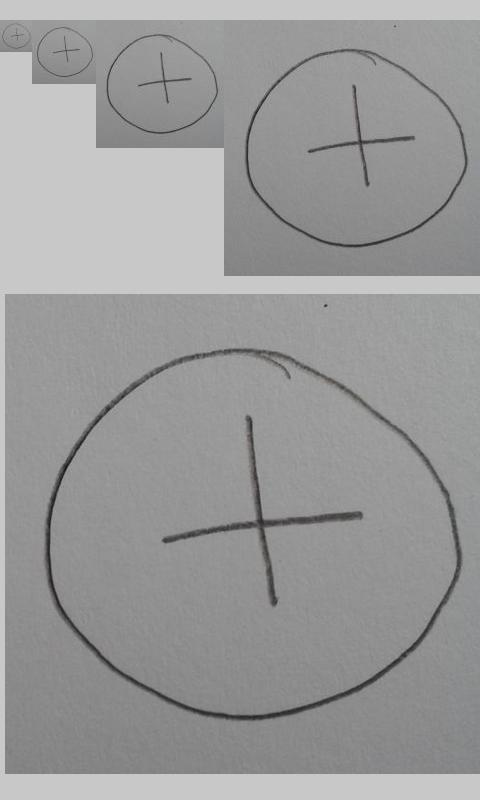button: (43, 345, 465, 722), (245, 46, 470, 248), (106, 34, 218, 134), (36, 26, 94, 78), (2, 22, 31, 49)
